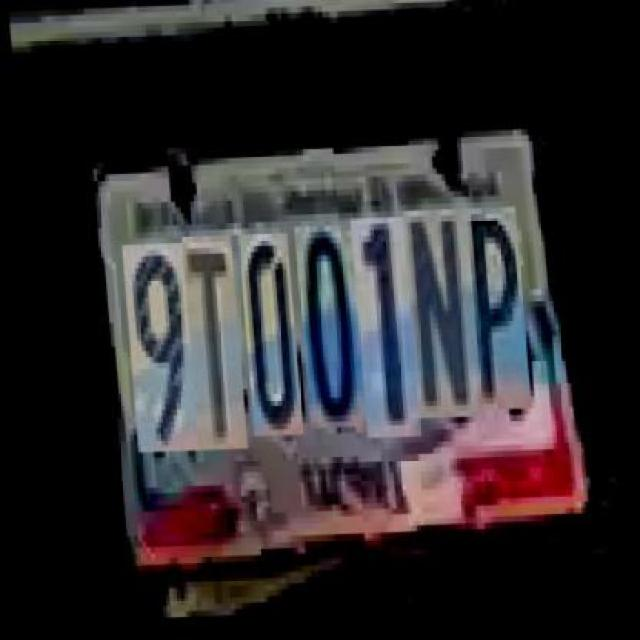0: (233, 235, 296, 438)
1: (345, 214, 413, 435)
9: (118, 244, 192, 453)
n: (398, 207, 472, 416)
o: (290, 228, 359, 430)
p: (459, 205, 523, 408)
t: (178, 236, 240, 452)
